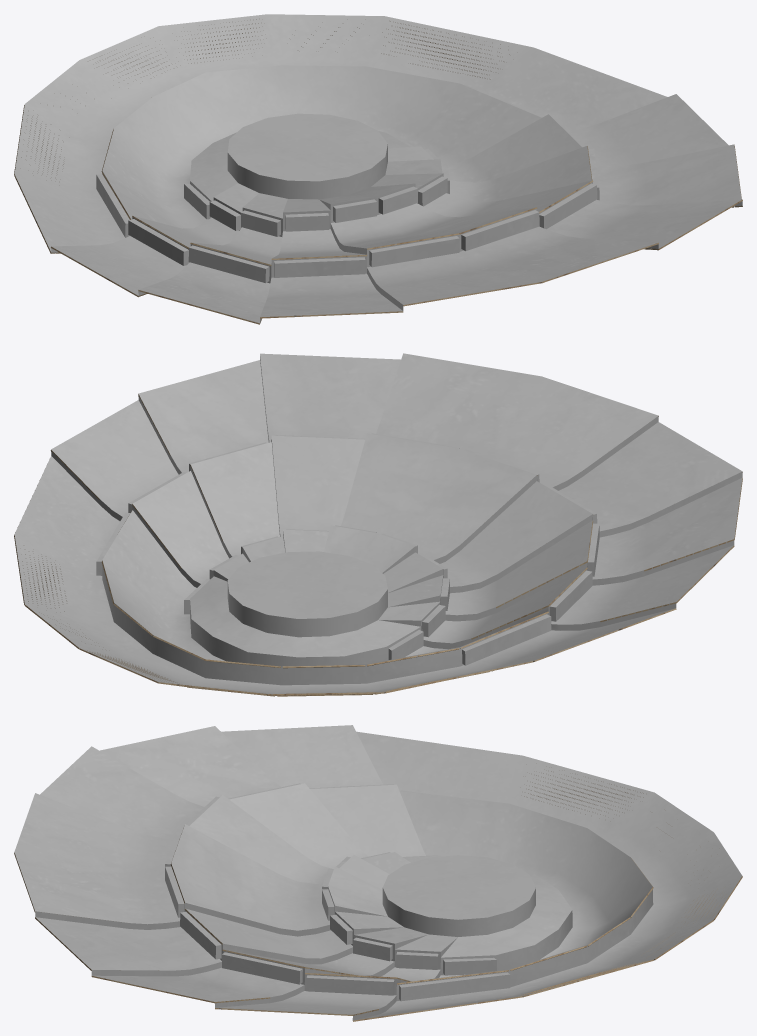
Rendered from SM_SceneMesh_Ceiling_01.fbx.
3 renders of one model, top to bottom at view 1: azimuth 30°, elevation 25°; view 2: azimuth 150°, elevation 25°; view 3: azimuth 270°, elevation 25°, orthographic. The views are drawn at different scales.
Visible parts, largest first — view 1: SM_SceneMesh_Ceiling_01_LOD0; view 2: SM_SceneMesh_Ceiling_01_LOD0; view 3: SM_SceneMesh_Ceiling_01_LOD0.
Boxes of the visible parts, x1,y1,x2,y2 form: SM_SceneMesh_Ceiling_01_LOD0: (14,14,742,324); SM_SceneMesh_Ceiling_01_LOD0: (14,353,742,696); SM_SceneMesh_Ceiling_01_LOD0: (14,725,742,1021).
Size of the model in its own units: 5242 by 5568 by 666.
